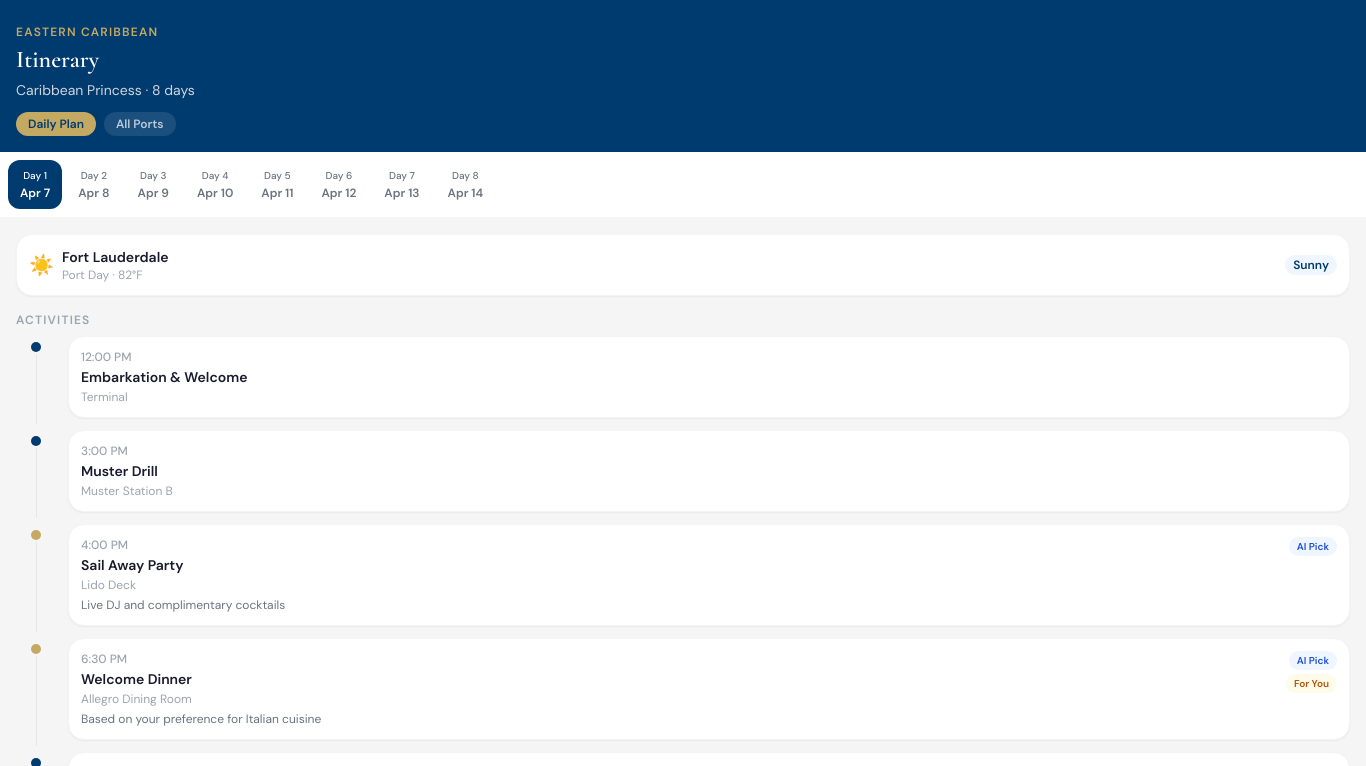
Scenario: ItineraryPage › switches to day 6 and shows sea day activities
Click the text "Day 6": (339, 176) 325,168 -> 352,183
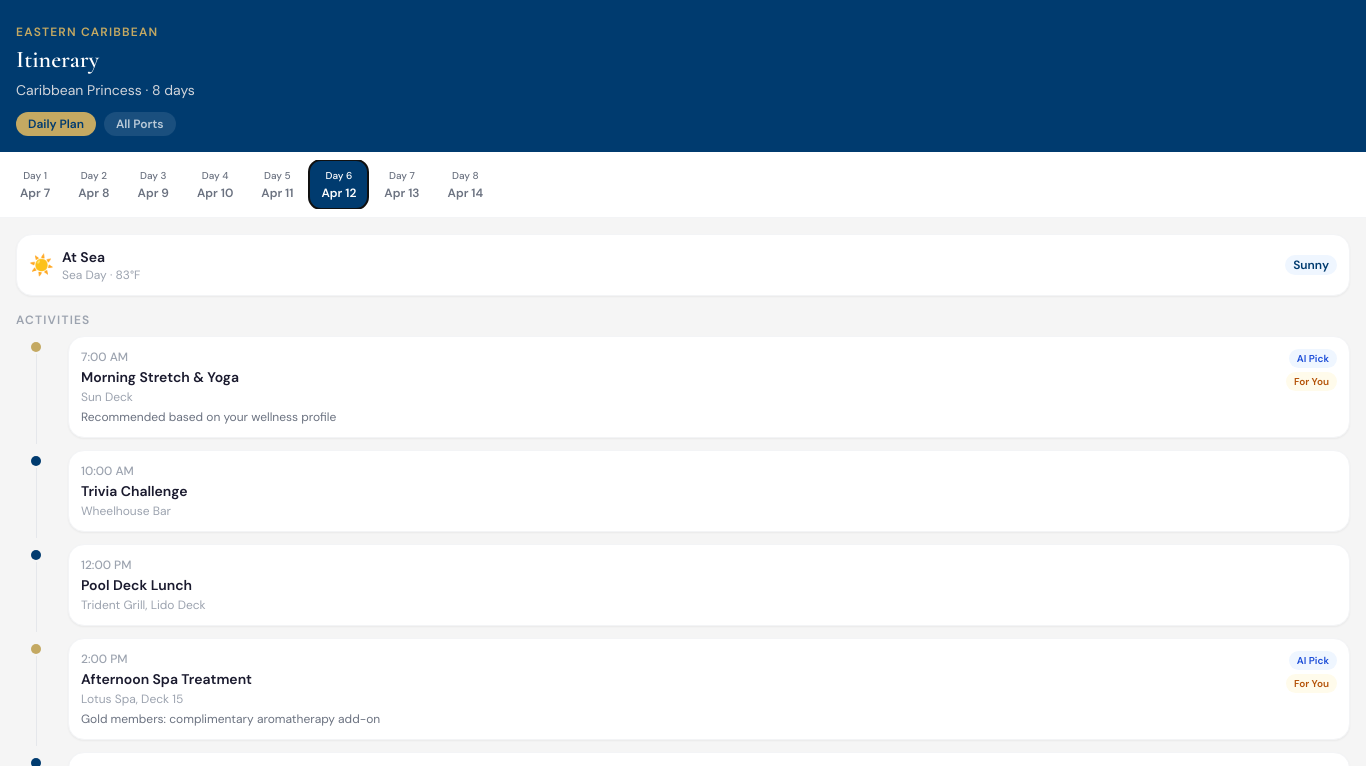
Check: the text "Morning Stretch & Yoga" is shown, box 81,368 -> 239,386
Check: the text "Trivia Challenge" is shown, box 81,482 -> 188,500
